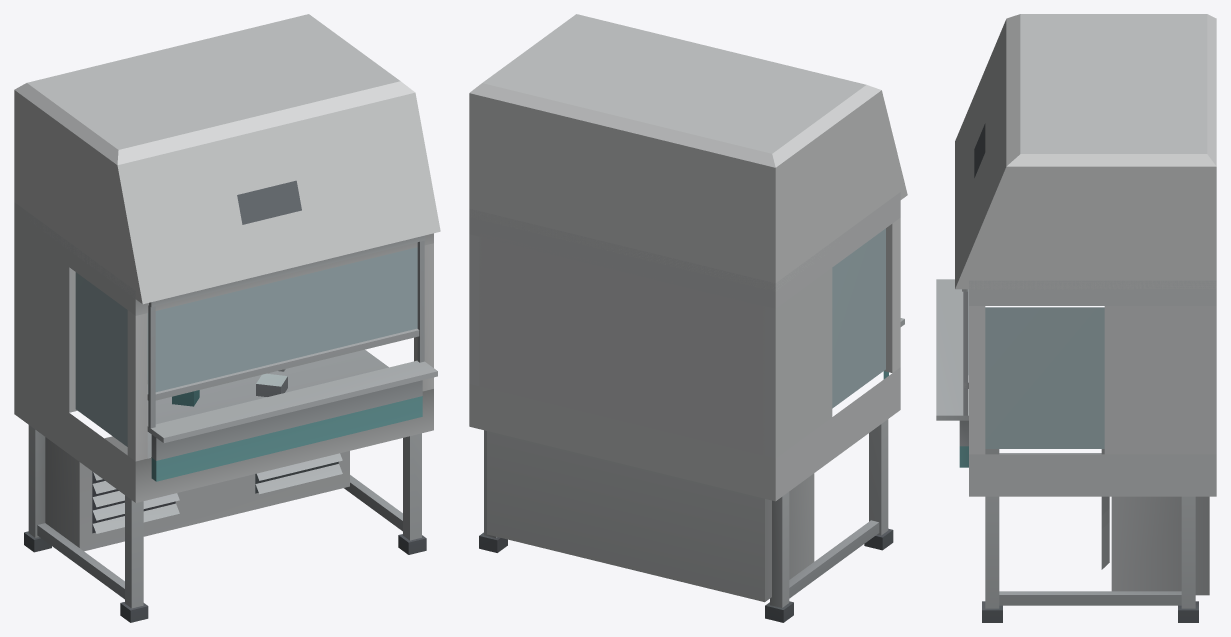
File: bsc.lod1.glb
The picture shows the model from 3 angles, left to right: view 1: azimuth 30°, elevation 25°; view 2: azimuth 150°, elevation 25°; view 3: azimuth 270°, elevation 25°; orthographic projection. The views are drawn at different scales.
Bounding box in the file's own units: 1.5 × 2.2 × 1.2.
